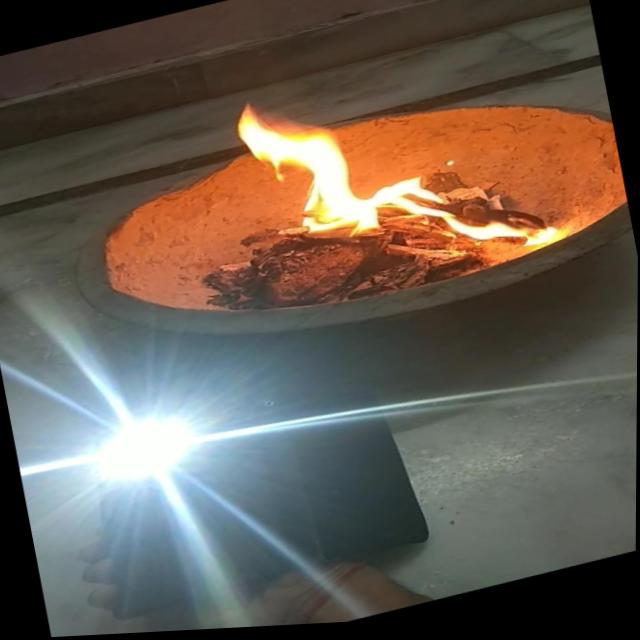fire: (210, 35, 568, 322)
